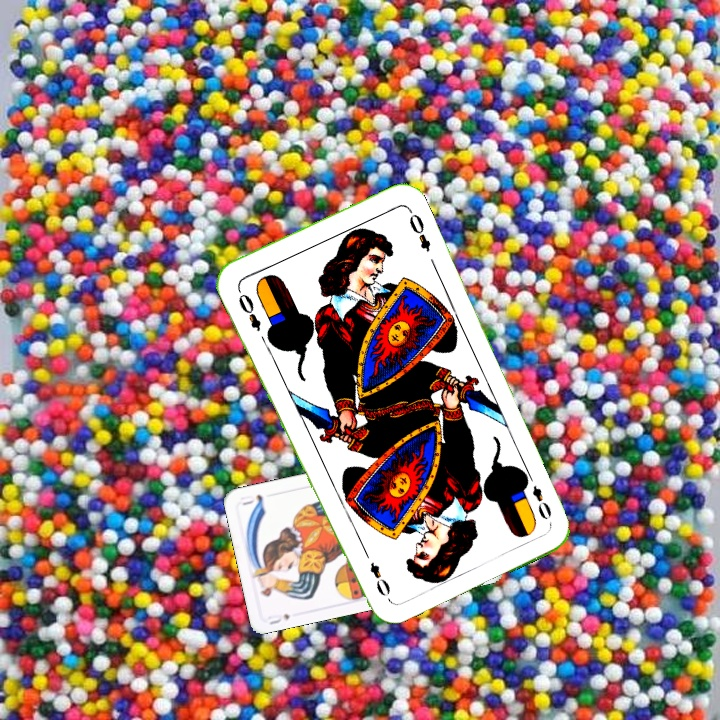EO: (233, 284, 264, 334), (528, 481, 554, 522)
SU: (264, 609, 293, 628)
